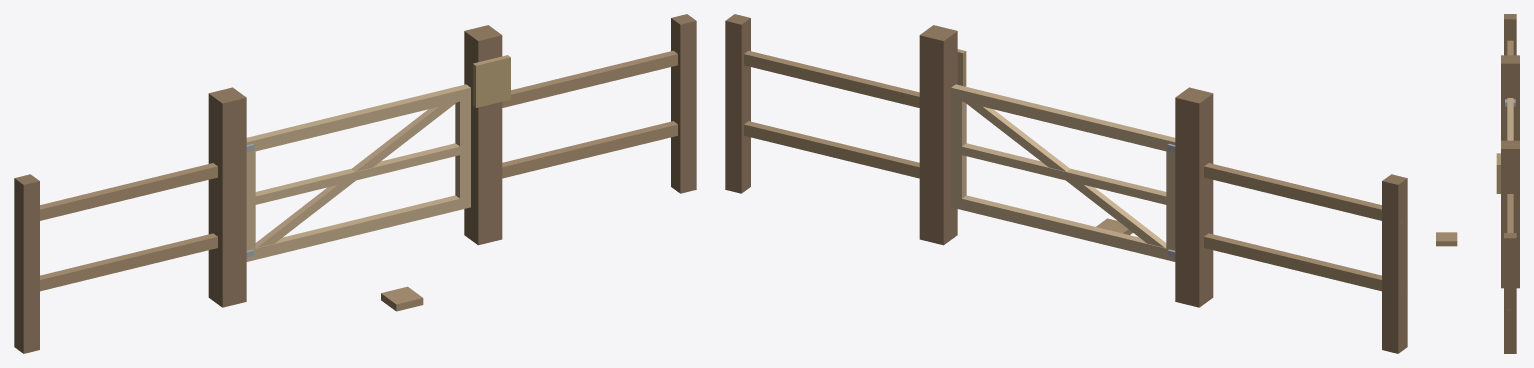
The model's file is pasture_gate.glb.
3 renders of one model, left to right at view 1: azimuth 30°, elevation 25°; view 2: azimuth 150°, elevation 25°; view 3: azimuth 270°, elevation 25°, orthographic. The views are drawn at different scales.
Visible parts, largest first — view 1: Post#3, Post#4, Post, Post#2, Gate#2, Gate, Rail, Rail#2, Rail#3, Gate#3, Rail#4, Gate.Brace (+4 smaller); view 2: Post#3, Post#4, Post, Post#2, Gate, Gate#2, Rail, Rail#2, Rail#3, Rail#4, Gate#3, Gate.Brace (+2 smaller); view 3: Post#4, Post#2, Post#3, Post, Entry, Gate#2, Rail#4, Gate.Sign, Rail#2.
Boxes of the visible parts, box(x1,y1,x2,y2) form: Post#3: box(208, 87, 246, 307); Post#4: box(464, 25, 502, 245); Post: box(14, 174, 39, 353); Post#2: box(671, 14, 696, 193); Gate#2: box(247, 87, 470, 153); Gate: box(255, 195, 470, 259); Rail: box(40, 233, 217, 291); Rail#2: box(40, 163, 217, 220); Rail#3: box(502, 121, 677, 178); Gate#3: box(246, 143, 470, 206); Rail#4: box(502, 50, 677, 107); Gate.Brace: box(255, 102, 456, 247); Post#3: box(1175, 87, 1213, 307); Post#4: box(919, 25, 957, 245); Post: box(1382, 174, 1407, 353); Post#2: box(725, 14, 750, 193); Gate: box(951, 195, 1175, 261); Gate#2: box(962, 87, 1174, 152); Rail: box(1204, 233, 1403, 294); Rail#2: box(1204, 163, 1402, 223); Rail#3: box(744, 121, 919, 178); Rail#4: box(744, 50, 919, 107); Gate#3: box(962, 143, 1175, 206); Gate.Brace: box(965, 102, 1166, 247); Post#4: box(1501, 140, 1519, 288); Post#2: box(1504, 233, 1516, 353); Post#3: box(1501, 55, 1519, 140); Post: box(1504, 14, 1516, 55); Entry: box(1436, 232, 1457, 246); Gate#2: box(1507, 101, 1513, 140); Rail#4: box(1507, 194, 1513, 232); Gate.Sign: box(1496, 153, 1500, 193); Rail#2: box(1507, 40, 1513, 55).
Bounding box in the file's own units: 5 × 1.45 × 0.79.
